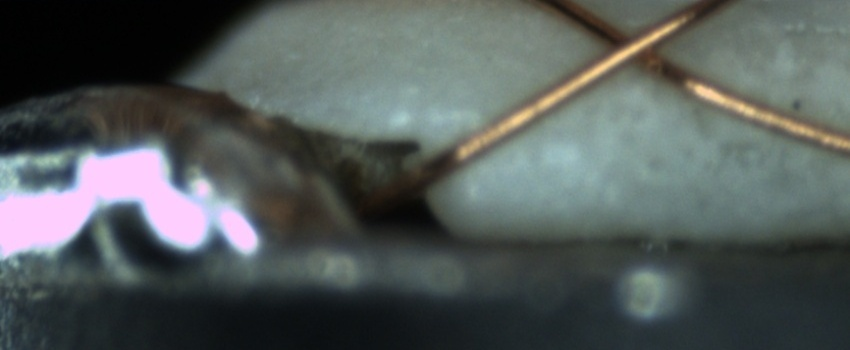CL: (580, 6, 692, 85)
